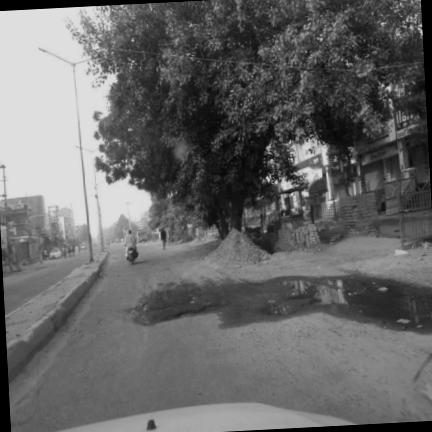Road: (9, 244, 431, 431), (3, 251, 86, 314)
